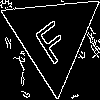F: (27, 11, 74, 67)
